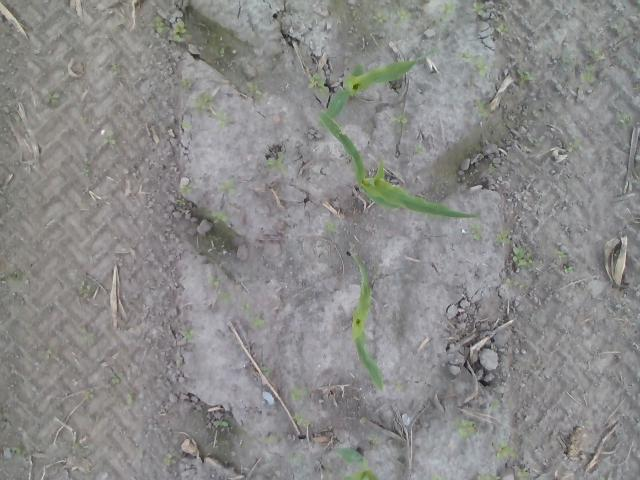Maize: (317, 110, 482, 219), (317, 50, 429, 127), (347, 248, 388, 396), (332, 443, 380, 480)
Weeds: (455, 48, 492, 78), (241, 302, 266, 329), (208, 272, 229, 304), (306, 71, 328, 100), (454, 415, 480, 439), (511, 246, 533, 274), (286, 381, 312, 402), (494, 439, 514, 462), (264, 156, 288, 174), (192, 94, 215, 111), (240, 80, 263, 96), (0, 270, 23, 284), (80, 326, 96, 346), (218, 176, 238, 192), (173, 20, 187, 42), (292, 412, 310, 429), (512, 464, 530, 480), (390, 112, 410, 126), (208, 212, 227, 226), (579, 64, 594, 81), (10, 446, 24, 464), (214, 104, 224, 128), (494, 231, 512, 244), (566, 139, 584, 152), (471, 1, 486, 16), (438, 0, 454, 14), (78, 281, 94, 294), (470, 223, 482, 240), (479, 100, 490, 118), (488, 398, 502, 412), (46, 91, 61, 104), (370, 12, 386, 24), (398, 8, 412, 21), (518, 70, 536, 80), (155, 15, 164, 34), (590, 48, 603, 61), (82, 388, 95, 400), (478, 472, 497, 480), (496, 22, 511, 32), (616, 112, 625, 128), (180, 182, 192, 194), (324, 222, 336, 234), (210, 419, 230, 426), (110, 62, 120, 76), (487, 160, 497, 174), (554, 248, 568, 258), (366, 434, 379, 444), (212, 46, 225, 56), (180, 118, 192, 128), (162, 453, 172, 465), (414, 142, 424, 154), (563, 264, 575, 274), (72, 442, 80, 456), (184, 327, 192, 340), (504, 278, 514, 288), (176, 197, 187, 206), (181, 78, 192, 87), (394, 383, 405, 392), (112, 378, 124, 386), (81, 167, 90, 177), (262, 366, 272, 375), (432, 473, 444, 480), (633, 84, 640, 94), (563, 55, 570, 64)
